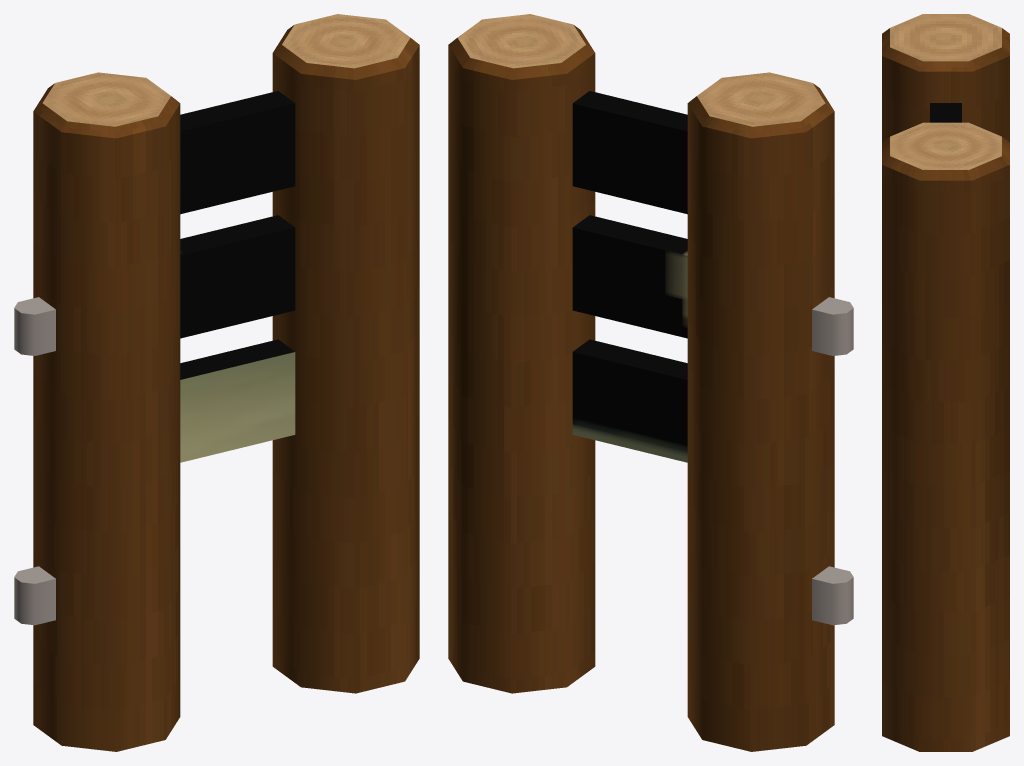
The model's file is Path_Fence_Gate_Frame_Hinged_1x1.fbx.
3 views of the same model, side by side, from view 1: azimuth 30°, elevation 25°; view 2: azimuth 150°, elevation 25°; view 3: azimuth 270°, elevation 25° (orthographic). The views are drawn at different scales.
Visible parts, largest first — view 1: Path_Fence_Gate_Frame_Hinged_1x1; view 2: Path_Fence_Gate_Frame_Hinged_1x1; view 3: Path_Fence_Gate_Frame_Hinged_1x1.
Part boxes in pixels (x1,y1,x2,y2): Path_Fence_Gate_Frame_Hinged_1x1: (14, 14, 419, 751); Path_Fence_Gate_Frame_Hinged_1x1: (448, 14, 853, 751); Path_Fence_Gate_Frame_Hinged_1x1: (882, 14, 1009, 751).
Bounding box in the file's own units: 61.24 × 93.75 × 18.75.
